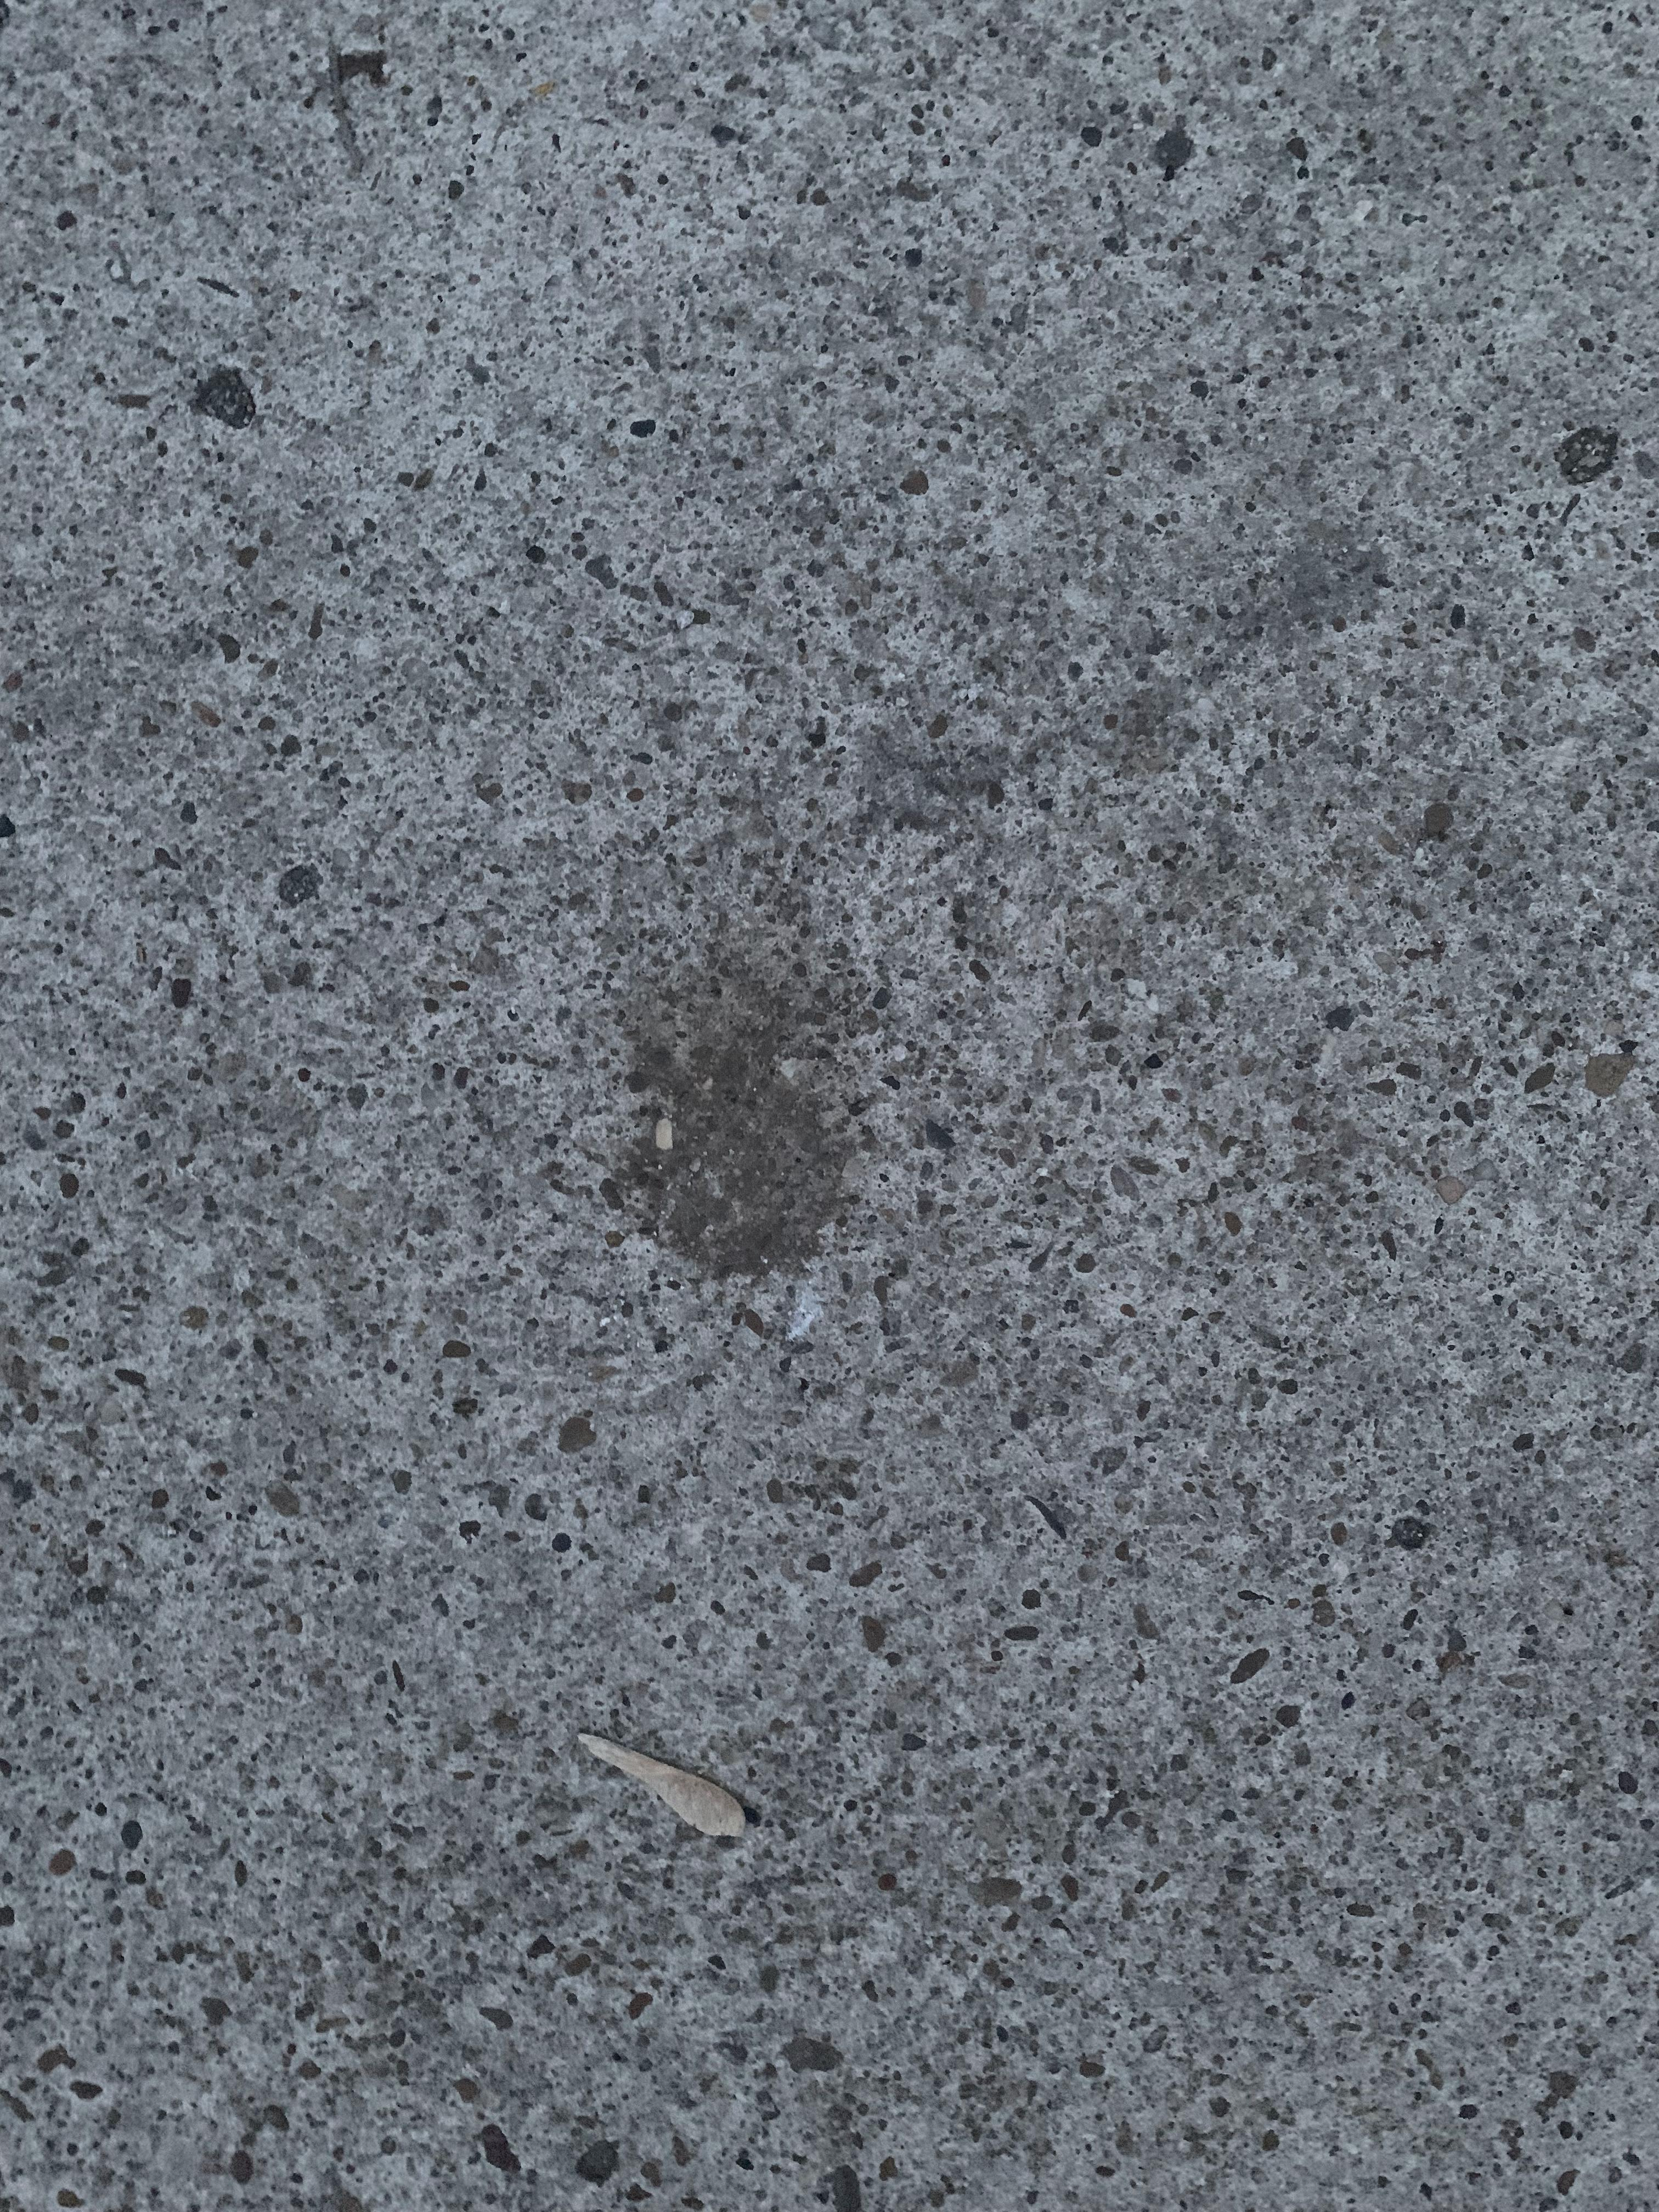grey spot: (617, 951, 877, 1275)
